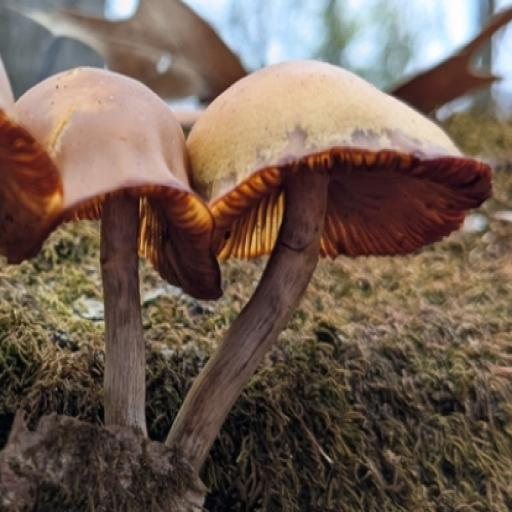mushroom: (26, 42, 499, 392)
